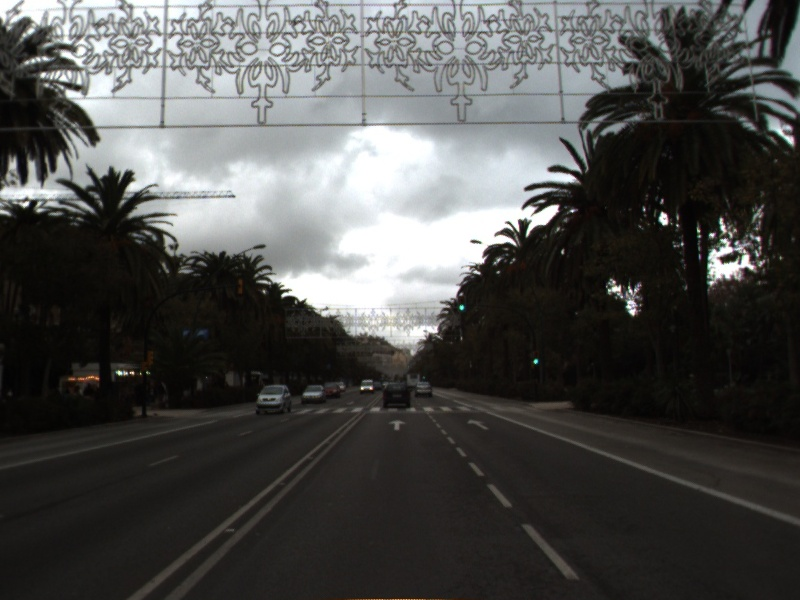STRAIGHT: (465, 417, 491, 432), (387, 417, 408, 432)
